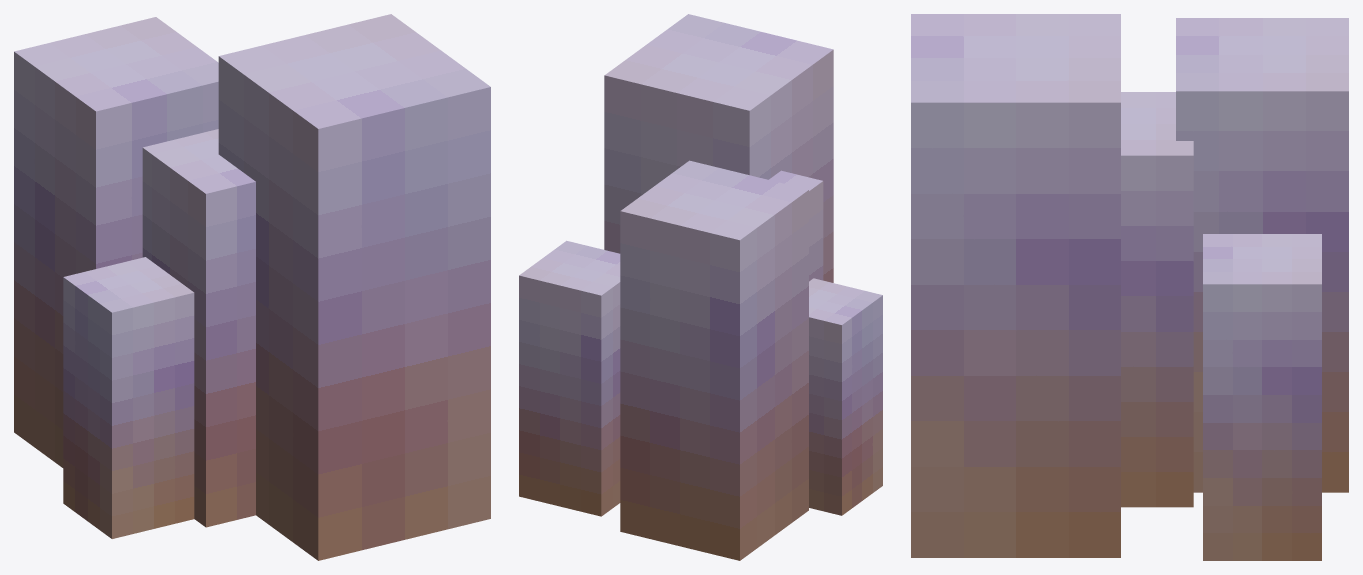
Rendered from sperrylite_crystal_five.obj.
The picture shows the model from 3 angles, left to right: view 1: azimuth 30°, elevation 25°; view 2: azimuth 150°, elevation 25°; view 3: azimuth 270°, elevation 25°; orthographic projection. The views are drawn at different scales.
Parts seen in each view (by area): view 1: Crystal4_Cube.000, Crystal1_Cube.003, Crystal2_Cube.002, Crystal3_Cube.001; view 2: Crystal1_Cube.003, Crystal4_Cube.000, Crystal5_Cube.008, Crystal2_Cube.002, Crystal3_Cube.001; view 3: Crystal4_Cube.000, Crystal1_Cube.003, Crystal5_Cube.008, Crystal3_Cube.001.
Boxes of the visible parts, box(x1,y1,x2,y2) form: Crystal4_Cube.000: box(218, 14, 490, 560); Crystal1_Cube.003: box(14, 17, 218, 467); Crystal2_Cube.002: box(63, 257, 194, 538); Crystal3_Cube.001: box(142, 129, 255, 527); Crystal1_Cube.003: box(620, 160, 808, 560); Crystal4_Cube.000: box(604, 14, 833, 282); Crystal5_Cube.008: box(519, 240, 620, 516); Crystal2_Cube.002: box(809, 278, 882, 515); Crystal3_Cube.001: box(769, 170, 823, 281); Crystal4_Cube.000: box(911, 14, 1120, 557); Crystal1_Cube.003: box(1176, 18, 1348, 492); Crystal5_Cube.008: box(1203, 234, 1321, 560); Crystal3_Cube.001: box(1121, 92, 1193, 507).
Bounding box in the file's own units: 0.4881 × 0.6473 × 0.5645.
